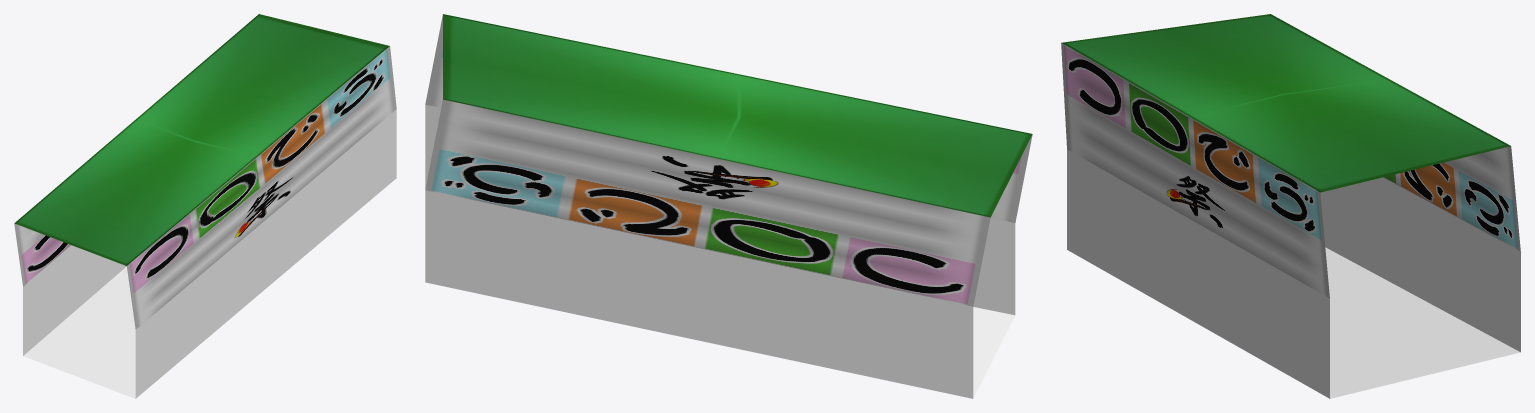
Rendered from CourseWinter_Wall_L_17_6.fbx.
The picture shows the model from 3 angles, left to right: view 1: azimuth 30°, elevation 25°; view 2: azimuth 150°, elevation 25°; view 3: azimuth 270°, elevation 25°; orthographic projection. The views are drawn at different scales.
Visible parts, largest first — view 1: polySurface608; view 2: polySurface608; view 3: polySurface608.
Boxes of the visible parts, x1,y1,x2,y2 form: polySurface608: (14, 14, 396, 398); polySurface608: (425, 14, 1032, 398); polySurface608: (1061, 14, 1520, 398).
Bounding box in the file's own units: 6.11 × 2.98 × 4.15.
1 material, 1 textured.
